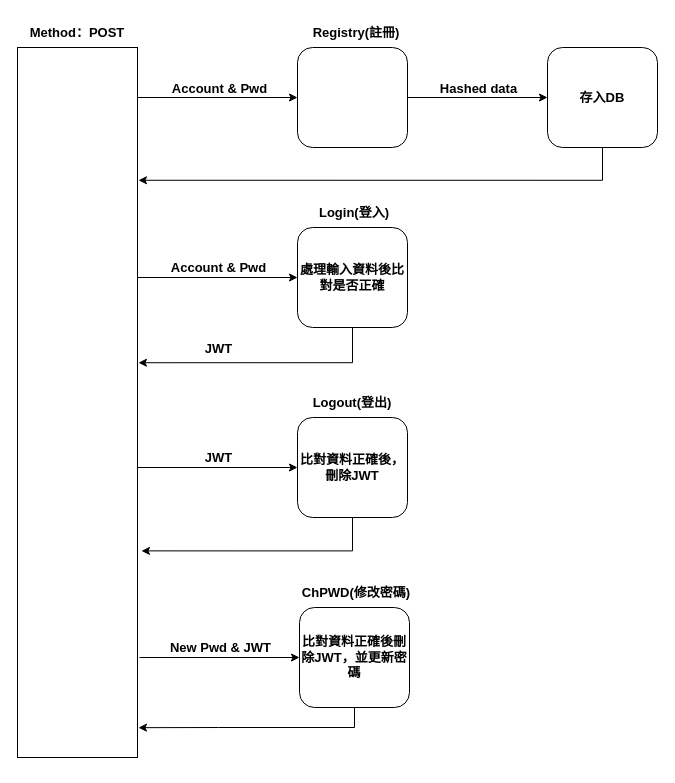
The diagram is 675 pixels wide and 783 high, and some of its shapes have lost their labels. The shapes that lost their labels are listed below. From the top down, each one's centre as x and y in pixels, then its label:
At pixel 352 97: "確認帳戶不存在，後將密碼加密，產生JWT".
At pixel 77 402: "Client".
